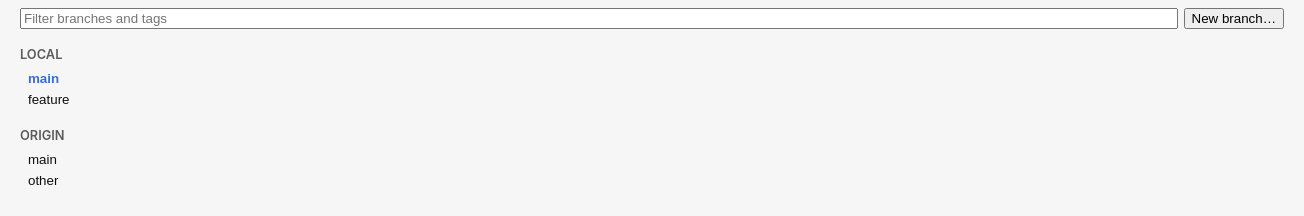
Test case: BranchesPanel filter › should narrow the rows to the matches
Expected: the heading "Local" is shown, [20, 47, 62, 62]
Type "oth" into the search field labelled "Filter branches and tags".
click(599, 18); type("oth")  # box [20, 8, 1178, 29]
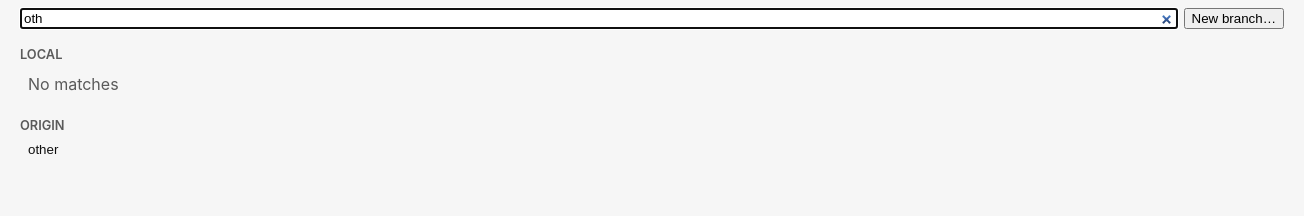
Result: the button titled "refs/remotes/origin/main" is gone
Result: the button titled "refs/heads/main" is gone
